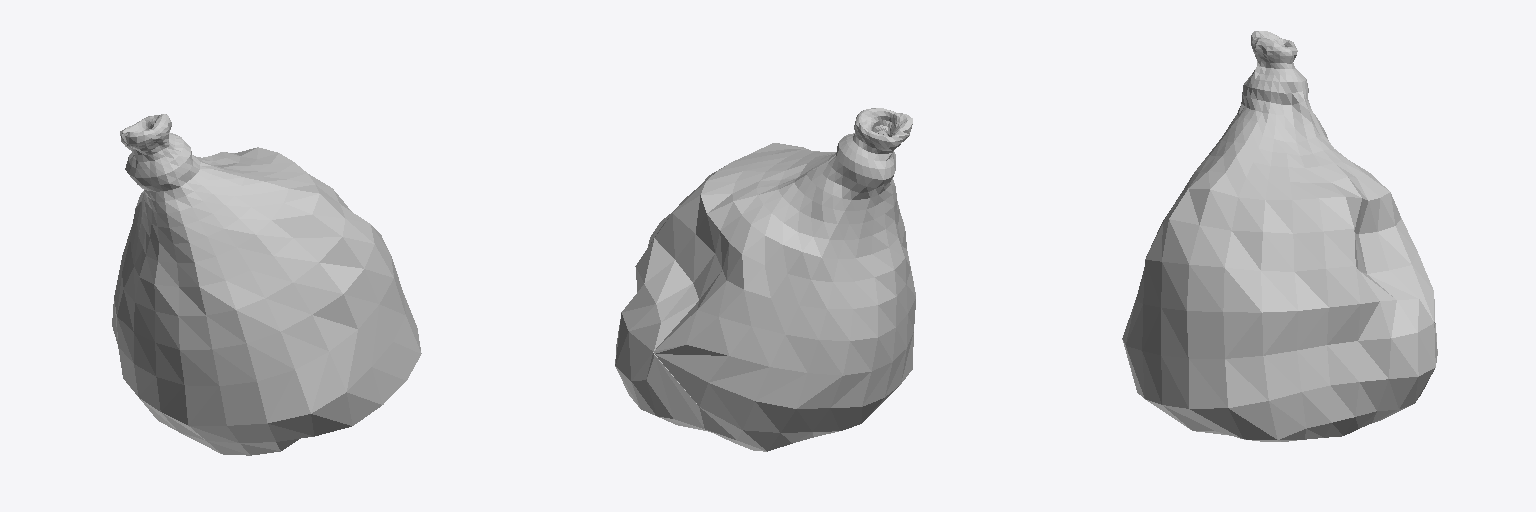
The model's file is PlasticBag.Obj.
3 renders of one model, left to right at view 1: azimuth 30°, elevation 25°; view 2: azimuth 150°, elevation 25°; view 3: azimuth 270°, elevation 25°, orthographic.
Parts seen in each view (by area): view 1: RetopoGroup1; view 2: RetopoGroup1; view 3: RetopoGroup1.
Part boxes in pixels (x1,y1,x2,y2): RetopoGroup1: (112, 114, 421, 455); RetopoGroup1: (615, 108, 915, 451); RetopoGroup1: (1122, 31, 1437, 441).
Bounding box in the file's own units: 176 × 208 × 177.